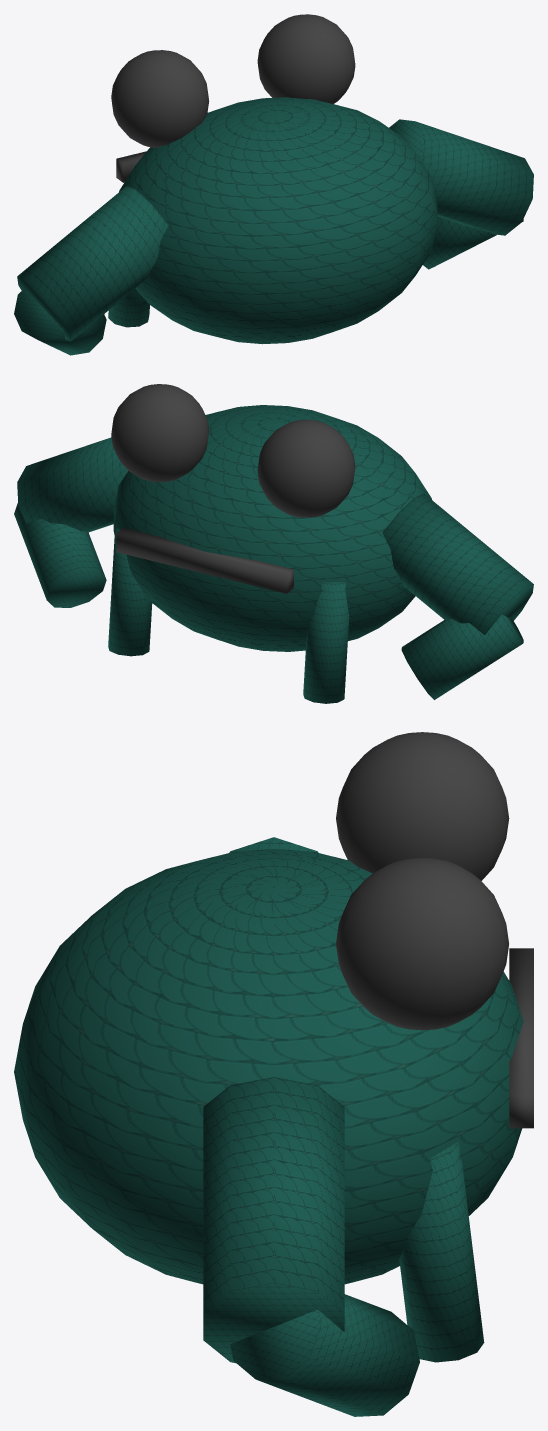
Rendered from cave-frog.glb.
The picture shows the model from 3 angles, top to bottom: view 1: azimuth 30°, elevation 25°; view 2: azimuth 150°, elevation 25°; view 3: azimuth 270°, elevation 25°; orthographic projection. The views are drawn at different scales.
Visible parts, largest first — view 1: Body, Thigh, Thigh.001, Eye, Eye.001, Shin, Shin.001, FrontLeg, Mouth; view 2: Body, Thigh, Eye, Eye.001, Thigh.001, Shin, Shin.001, FrontLeg, Mouth, FrontLeg.001; view 3: Body, Thigh.001, Eye.001, Eye, Shin.001, FrontLeg.001, Mouth.
Boxes of the visible parts, x1=… form: Body: x1=119, y1=97, x2=437, y2=344; Thigh: x1=17, y1=186, x2=168, y2=341; Thigh.001: x1=389, y1=119, x2=533, y2=235; Eye: x1=111, y1=50, x2=209, y2=147; Eye.001: x1=257, y1=14, x2=355, y2=103; Shin: x1=14, y1=288, x2=106, y2=355; Shin.001: x1=423, y1=216, x2=523, y2=269; FrontLeg: x1=108, y1=288, x2=149, y2=327; Mouth: x1=116, y1=151, x2=146, y2=182; Body: x1=113, y1=405, x2=431, y2=651; Thigh: x1=382, y1=494, x2=533, y2=634; Eye: x1=257, y1=419, x2=355, y2=517; Eye.001: x1=111, y1=384, x2=208, y2=481; Thigh.001: x1=17, y1=437, x2=128, y2=532; Shin: x1=401, y1=614, x2=523, y2=699; Shin.001: x1=14, y1=503, x2=106, y2=607; FrontLeg: x1=303, y1=582, x2=349, y2=703; Mouth: x1=116, y1=528, x2=293, y2=593; FrontLeg.001: x1=108, y1=526, x2=152, y2=656; Body: x1=14, y1=849, x2=523, y2=1284; Thigh.001: x1=203, y1=1077, x2=344, y2=1363; Eye.001: x1=336, y1=857, x2=508, y2=1030; Eye: x1=336, y1=732, x2=509, y2=880; Shin.001: x1=230, y1=1294, x2=419, y2=1416; FrontLeg.001: x1=399, y1=1141, x2=484, y2=1362; Mouth: x1=509, y1=948, x2=533, y2=1128.
Size of the model in its own units: 0.825 by 0.4133 by 0.42.
2 materials, 1 textured.
